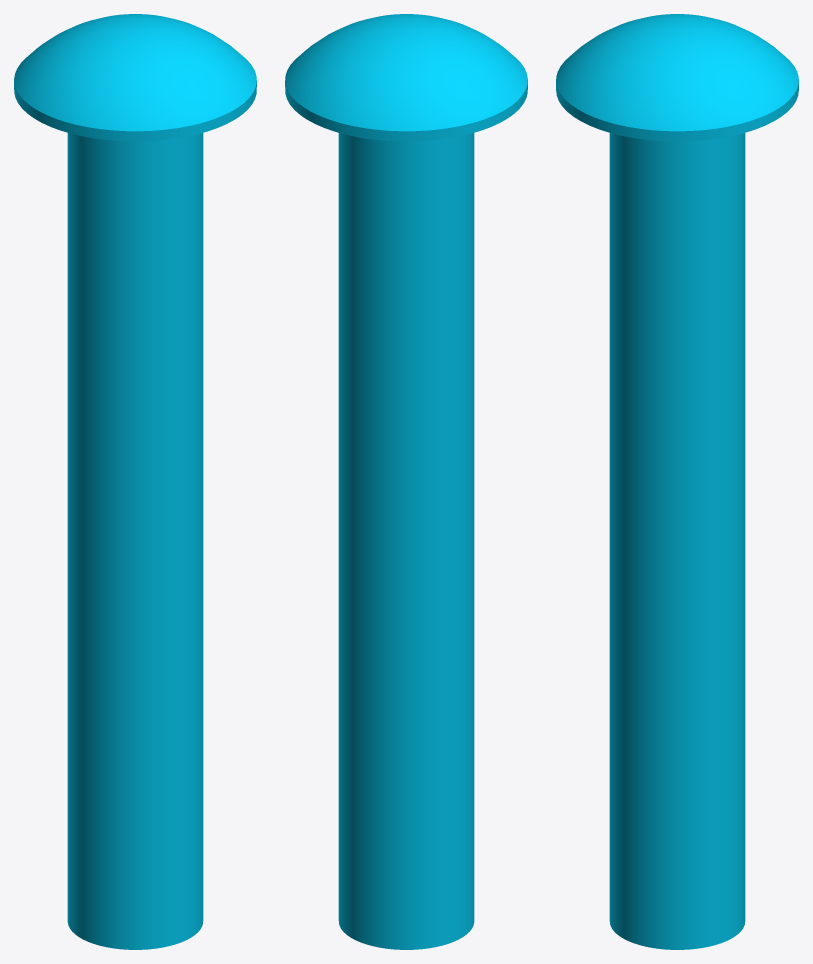
The model's file is leverpivotpin.gltf.
3 renders of one model, left to right at view 1: azimuth 30°, elevation 25°; view 2: azimuth 150°, elevation 25°; view 3: azimuth 270°, elevation 25°, orthographic.
Parts seen in each view (by area): view 1: 98-0011; view 2: 98-0011; view 3: 98-0011.
Part boxes in pixels (<box>): 98-0011: <box>14,14,256,949</box>; 98-0011: <box>285,14,527,949</box>; 98-0011: <box>556,14,798,949</box>.
Bounding box in the file's own units: 0.00546 × 0.0221 × 0.00546.
